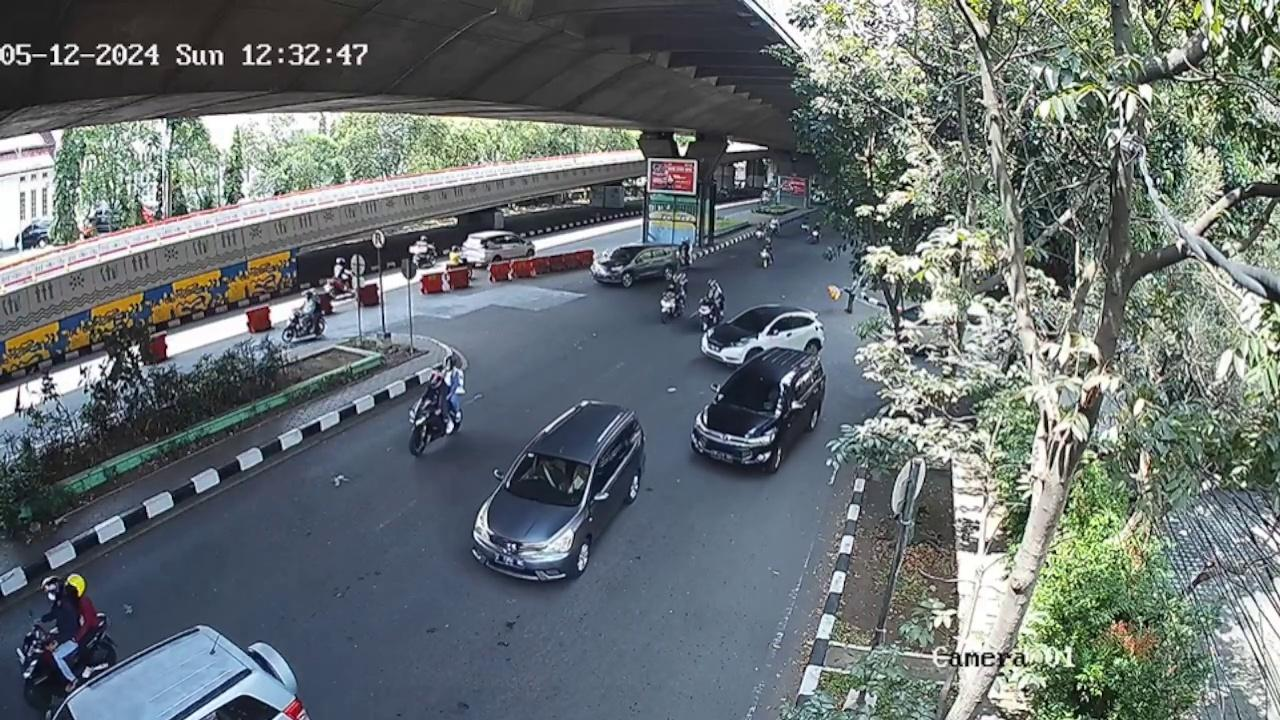pakai: (535, 462, 565, 492)
windshield: (506, 448, 591, 509), (715, 371, 792, 419)
